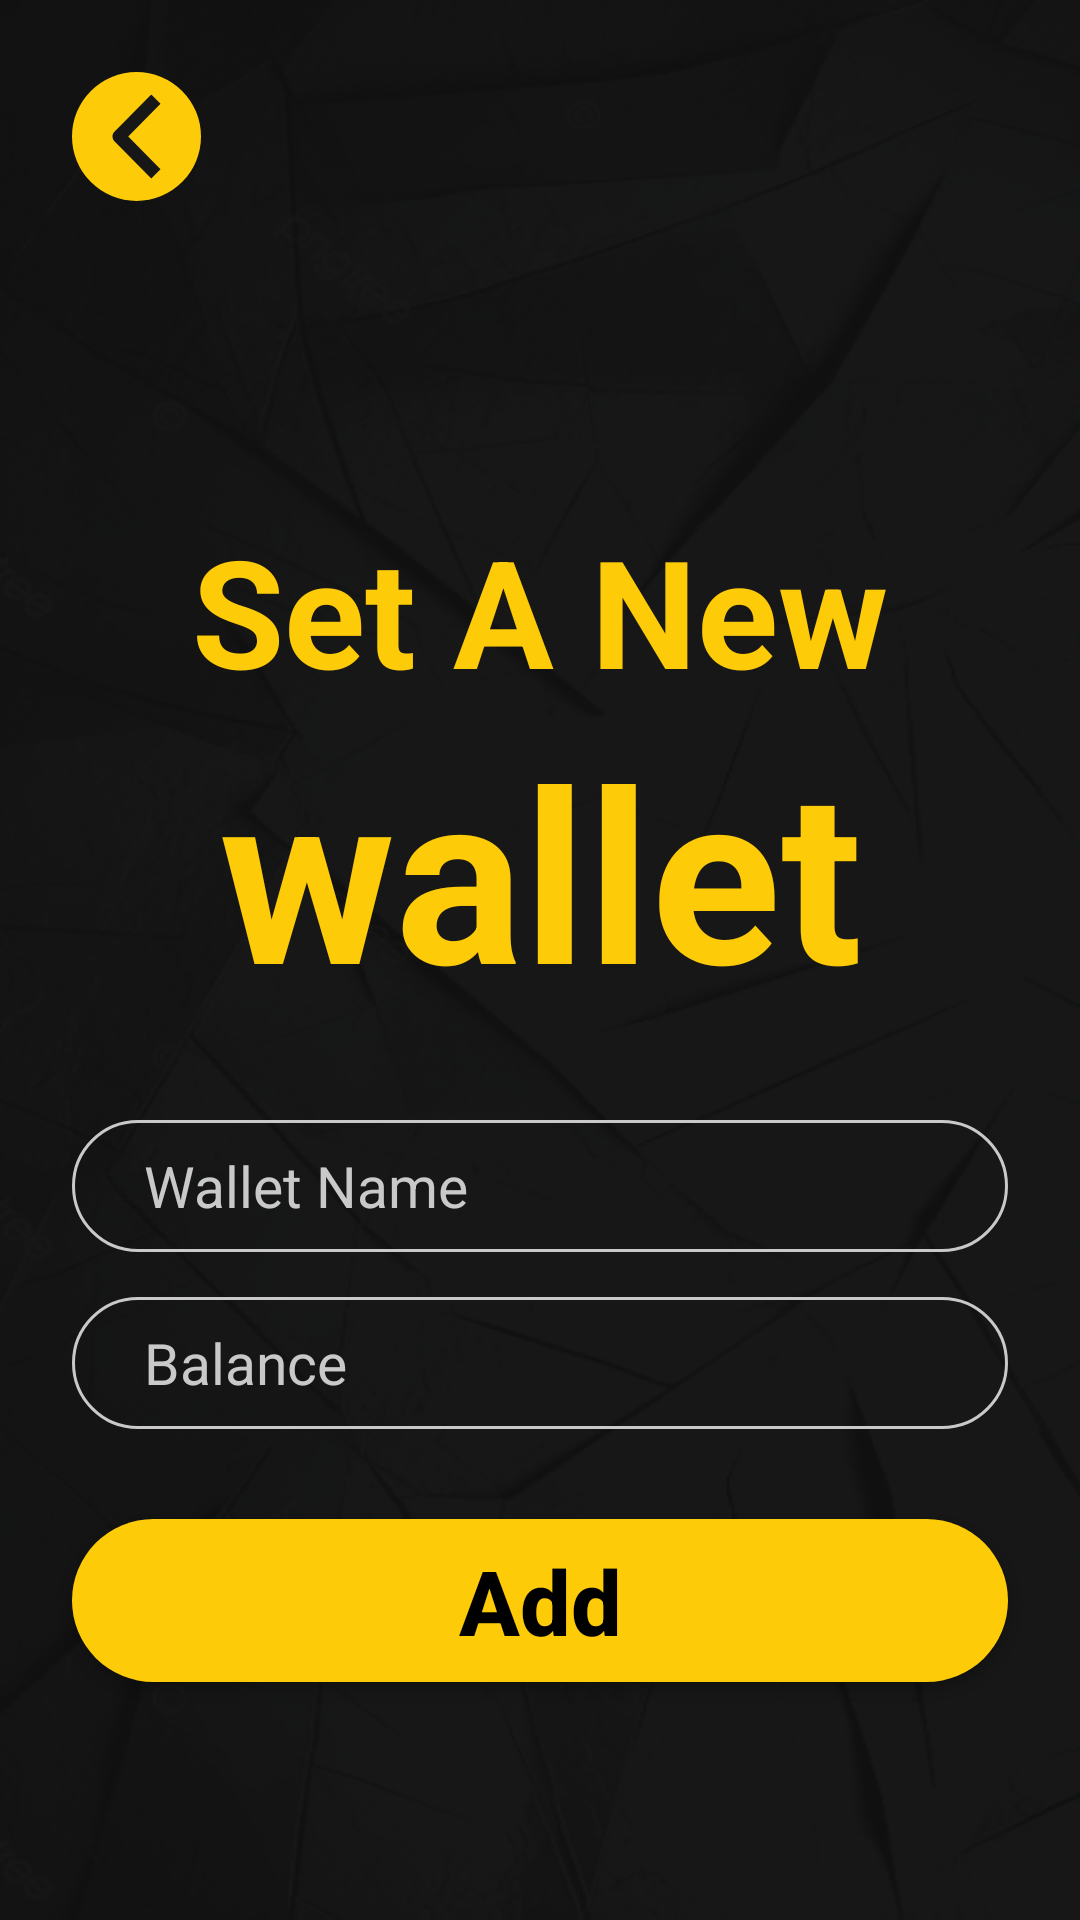

Icon click points for this 1080px×1920px phone screenshot, format [x,y]:
back: [136,136]
